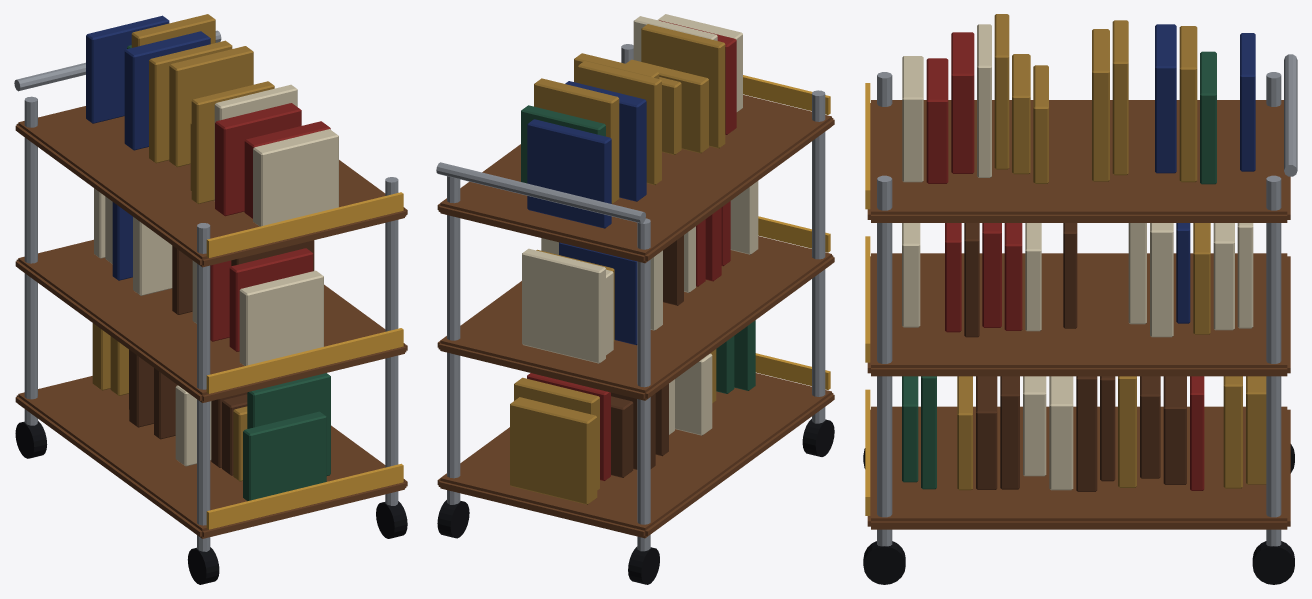
The model's file is cart.glb.
3 renders of one model, left to right at view 1: azimuth 30°, elevation 25°; view 2: azimuth 150°, elevation 25°; view 3: azimuth 270°, elevation 25°, orthographic. The views are drawn at different scales.
Visible parts, largest first — view 1: cart_books, cart_wood, cart_steel, cart_brass, cart_dark; view 2: cart_books, cart_wood, cart_steel, cart_brass, cart_dark; view 3: cart_books, cart_wood, cart_steel, cart_dark, cart_brass.
Boxes of the visible parts, x1=… form: cart_books: x1=86, y1=14, x2=338, y2=500; cart_wood: x1=15, y1=106, x2=407, y2=538; cart_steel: x1=14, y1=30, x2=398, y2=551; cart_brass: x1=206, y1=192, x2=403, y2=529; cart_dark: x1=15, y1=421, x2=407, y2=584; cart_books: x1=510, y1=14, x2=758, y2=504; cart_wood: x1=437, y1=95, x2=834, y2=538; cart_steel: x1=436, y1=44, x2=825, y2=551; cart_brass: x1=743, y1=75, x2=830, y2=389; cart_dark: x1=437, y1=419, x2=834, y2=584; cart_books: x1=902, y1=14, x2=1266, y2=491; cart_wood: x1=867, y1=100, x2=1290, y2=529; cart_steel: x1=877, y1=54, x2=1297, y2=546; cart_dark: x1=863, y1=444, x2=1294, y2=584; cart_brass: x1=865, y1=83, x2=870, y2=515.
Size of the model in its own units: 0.64 by 1.27 by 1.03.
